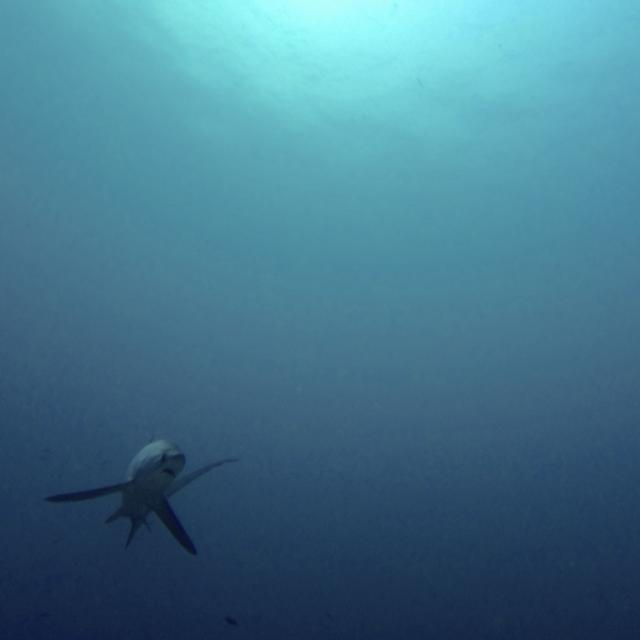Shark: (44, 434, 236, 554)
